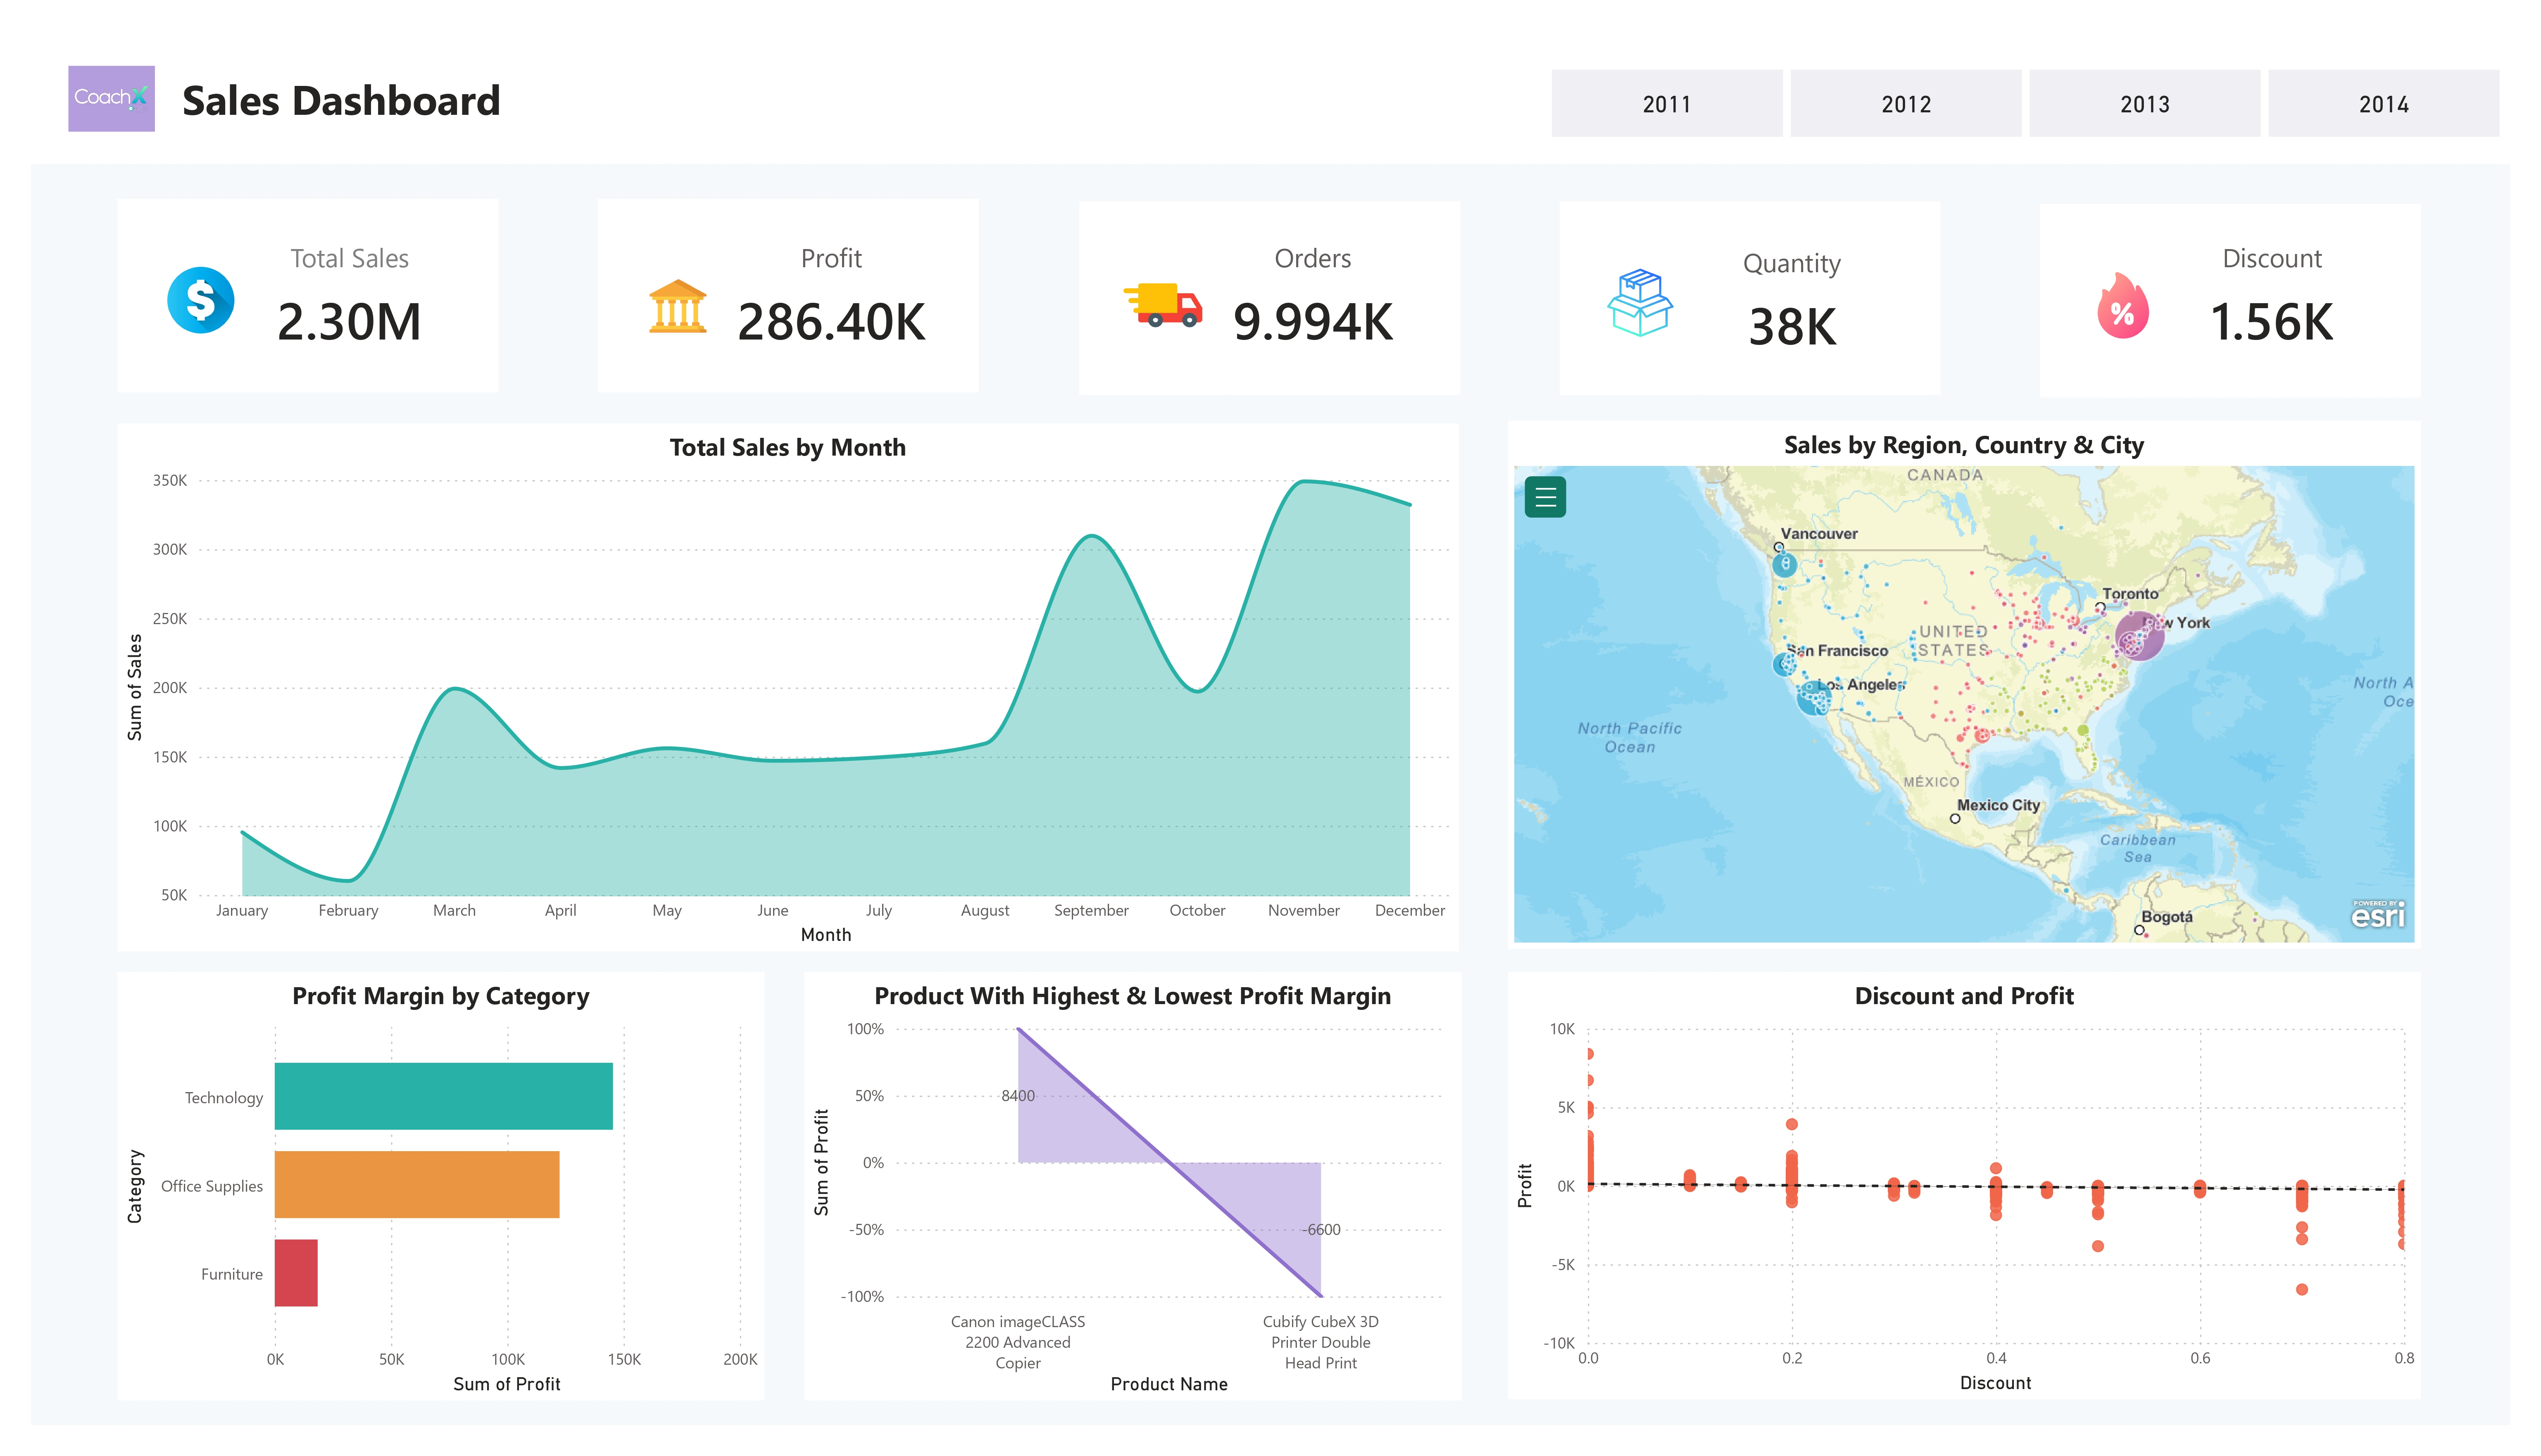

What the dashboard file says about the page in this screenshot:
{"tool":"powerbi","page":{"name":"Sales Dashboard","canvas":[1920,1080],"ordinal":0},"visuals":[{"type":"shape","box":[0,0,1920.1,103.2],"z":0},{"type":"textbox","box":[112.2,25.3,267.8,52.5],"z":1000},{"type":"advancedSlicerVisual","fields":{"Values":["Orders.Order Date.Variation.Date Hierarchy.Year"]},"box":[1172.7,25.3,747.4,61.5],"z":2000},{"type":"areaChart","title":"Total Sales by Month","fields":{"Category":["Orders.Order Date.Variation.Date Hierarchy.Year","Orders.Order Date.Variation.Date Hierarchy.Quarter","Orders.Order Date.Variation.Date Hierarchy.Month","Orders.Order Date.Variation.Date Hierarchy.Day"],"Y":["Sum(Orders.Sales)"]},"box":[67,304.1,1038.7,409],"z":3000},{"type":"shape","box":[1556.4,134,295,150.2],"z":4000,"group":"g1"},{"type":"esriVisual","title":"Sales by Region, Country & City","fields":{"Size":["Sum(Orders.Sales)"],"Color":["Orders.Region"],"Location":["Orders.City"]},"box":[1143.7,302.2,707.6,409],"z":4000},{"type":"shape","box":[67,130.4,295,150.2],"z":5000,"group":"g1"},{"type":"barChart","title":"Profit Margin by Category","fields":{"Y":["Sum(Orders.Profit)"],"Category":["Orders.Category"]},"box":[67,729.4,501.3,331.2],"z":5000},{"type":"shape","box":[439.3,130.4,295,150.2],"z":6000,"group":"g1"},{"type":"hundredPercentStackedAreaChart","title":"Product With Highest & Lowest Profit Margin","fields":{"Category":["Orders.Product Name"],"Y":["Sum(Orders.Profit)"]},"box":[599,729.4,508.5,331.2],"z":6000},{"type":"shape","box":[811.7,132.2,295,150.2],"z":7000,"group":"g1"},{"type":"scatterChart","fields":{"X":["Orders.Discount"],"Y":["Orders.Profit"]},"box":[1143.7,729.3,707.6,331.2],"z":7000},{"type":"image","box":[29,27.1,67,50.7],"z":8000},{"type":"shape","box":[1184,132.2,295,150.2],"z":8000,"group":"g1"},{"type":"group","id":"g1","title":"Group 1","box":[67,130.4,1784.3,153.8],"z":9000},{"type":"cardVisual","fields":{"Data":["Sum(Orders.Sales)"]},"box":[132.1,139.4,229.8,132.1],"z":9000,"group":"g1"},{"type":"cardVisual","fields":{"Data":["Sum(Orders.Profit)"]},"box":[504.9,139.4,229.8,132.1],"z":10000,"group":"g1"},{"type":"cardVisual","fields":{"Data":["CountNonNull(Orders.Order ID)"]},"box":[877.7,139.4,229.8,132.1],"z":11000,"group":"g1"},{"type":"cardVisual","fields":{"Data":["Sum(Orders.Quantity)"]},"box":[1248.7,143.1,229.8,132.1],"z":12000,"group":"g1"},{"type":"cardVisual","fields":{"Data":["Sum(Orders.Discount)"]},"box":[1621.5,139.4,229.8,132.1],"z":13000,"group":"g1"},{"type":"image","box":[96,177.5,70.6,63.3],"z":19000,"group":"g1"},{"type":"image","box":[465.1,186.5,70.6,54.3],"z":20000,"group":"g1"},{"type":"image","box":[839.7,177.5,72.4,70.6],"z":21000,"group":"g1"},{"type":"image","box":[1585.3,181.1,70.6,63.3],"z":22000,"group":"g1"},{"type":"image","box":[1210.7,179.3,70,63.3],"z":23000,"group":"g1"}]}

Visuals, with their boxes on the page's 1920x1080 design canvas (x1, y1, x2, y2). These are canvas units, not pixel positions in the 2541x1456 screenshot, which may show the page scaled, cropped or inside an application window:
shape: 0 0 1920 103
textbox: 112 25 380 78
advancedSlicerVisual - Orders.Order Date.Variation.Date Hierarchy.Year: 1173 25 1920 87
"Total Sales by Month" areaChart: 67 304 1106 713
shape: 1556 134 1851 284
"Sales by Region, Country & City" esriVisual: 1144 302 1851 711
shape: 67 130 362 281
"Profit Margin by Category" barChart: 67 729 568 1061
shape: 439 130 734 281
"Product With Highest & Lowest Profit Margin" hundredPercentStackedAreaChart: 599 729 1108 1061
shape: 812 132 1107 282
scatterChart - Orders.Discount x Orders.Profit: 1144 729 1851 1060
image: 29 27 96 78
shape: 1184 132 1479 282
"Group 1" group: 67 130 1851 284
cardVisual - Sum(Orders.Sales): 132 139 362 272
cardVisual - Sum(Orders.Profit): 505 139 735 272
cardVisual - CountNonNull(Orders.Order ID): 878 139 1108 272
cardVisual - Sum(Orders.Quantity): 1249 143 1478 275
cardVisual - Sum(Orders.Discount): 1622 139 1851 272
image: 96 178 167 241
image: 465 186 536 241
image: 840 178 912 248
image: 1585 181 1656 244
image: 1211 179 1281 243
